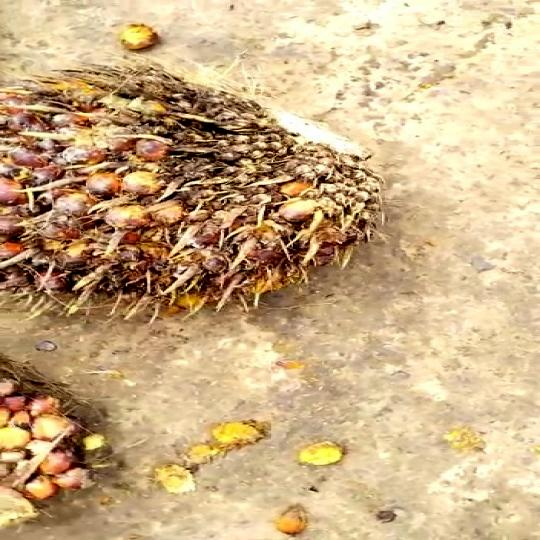masak: (0, 61, 402, 307)
